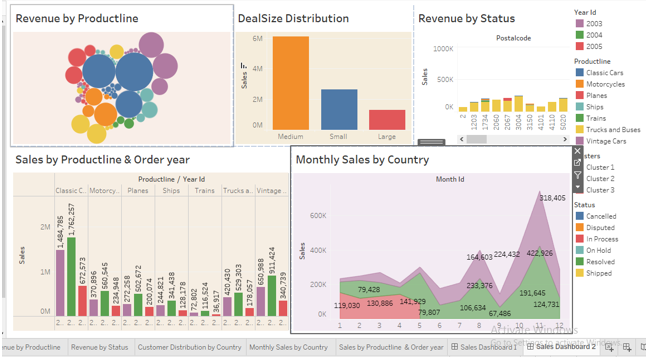

The page's visual inventory and layout, read from the dashboard file:
{"tool":"tableau","page":{"name":"Sales Dashboard 2","canvas":[1000,1000],"units":"permille","ordinal":1},"visuals":[{"type":"worksheet","title":"Revenue by Productline","mark":"Circle","box":[6.9,13.5,291.6,445.9]},{"type":"worksheet","title":"DealSize Distribution","mark":"Automatic","rows":["SALES"],"cols":["DEALSIZE"],"box":[298.5,13.5,217.2,445.9]},{"type":"worksheet","title":"Revenue by Status","mark":"Automatic","rows":["SALES"],"cols":["POSTALCODE"],"box":[515.7,13.5,338.9,445.9]},{"type":"legend","title":"Revenue by Status","param":"[federated.1jkcy2u0u6a9jw157zj5j0occhv6].[none:STATUS:nk]","box":[854.5,13.5,138.5,111.5]},{"type":"legend","title":"Sales by Productline  & Order year","param":"[federated.1jkcy2u0u6a9jw157zj5j0occhv6].[none:YEAR_ID:ok]","box":[854.5,125,138.5,77.7]},{"type":"filter","title":"Monthly Sales by Country","param":"[federated.1jkcy2u0u6a9jw157zj5j0occhv6].[none:COUNTRY:nk]","box":[854.5,202.7,138.5,228.1]},{"type":"legend","title":"DealSize Distribution","param":"[federated.1jkcy2u0u6a9jw157zj5j0occhv6].[none:AdhocCluster:1:ok]","box":[854.5,430.7,138.5,145.3]},{"type":"worksheet","title":"Sales by Productline  & Order year","mark":"Automatic","rows":["SALES"],"cols":["PRODUCTLINE","YEAR_ID"],"box":[6.9,459.5,423.8,527]},{"type":"worksheet","title":"Monthly Sales by Country","mark":"Area","rows":["SALES"],"cols":["MONTH_ID"],"box":[430.7,459.5,423.8,527]},{"type":"filter","title":"Revenue by Productline","param":"[federated.1jkcy2u0u6a9jw157zj5j0occhv6].[none:YEAR_ID:ok]","box":[854.5,576,138.5,182.4]},{"type":"legend","title":"Revenue by Productline","param":"[federated.1jkcy2u0u6a9jw157zj5j0occhv6].[none:PRODUCTLINE:nk]","box":[854.5,758.4,138.5,228.1]}]}

Visuals, with their boxes on the dashboard's canvas, which has no fixed pixel size, in thousandths of its width and height (x1, y1, x2, y2). These are canvas units, not pixel positions in the 652x359 screenshot, which may show the page scaled, cropped or inside an application window:
"Revenue by Productline" worksheet (Circle marks): rect(7, 14, 298, 459)
"DealSize Distribution" worksheet: rect(298, 14, 516, 459)
"Revenue by Status" worksheet: rect(516, 14, 855, 459)
"Revenue by Status" legend: rect(854, 14, 993, 125)
"Sales by Productline  & Order year" legend: rect(854, 125, 993, 203)
"Monthly Sales by Country" filter: rect(854, 203, 993, 431)
"DealSize Distribution" legend: rect(854, 431, 993, 576)
"Sales by Productline  & Order year" worksheet: rect(7, 460, 431, 986)
"Monthly Sales by Country" worksheet (Area marks): rect(431, 460, 854, 986)
"Revenue by Productline" filter: rect(854, 576, 993, 758)
"Revenue by Productline" legend: rect(854, 758, 993, 986)
